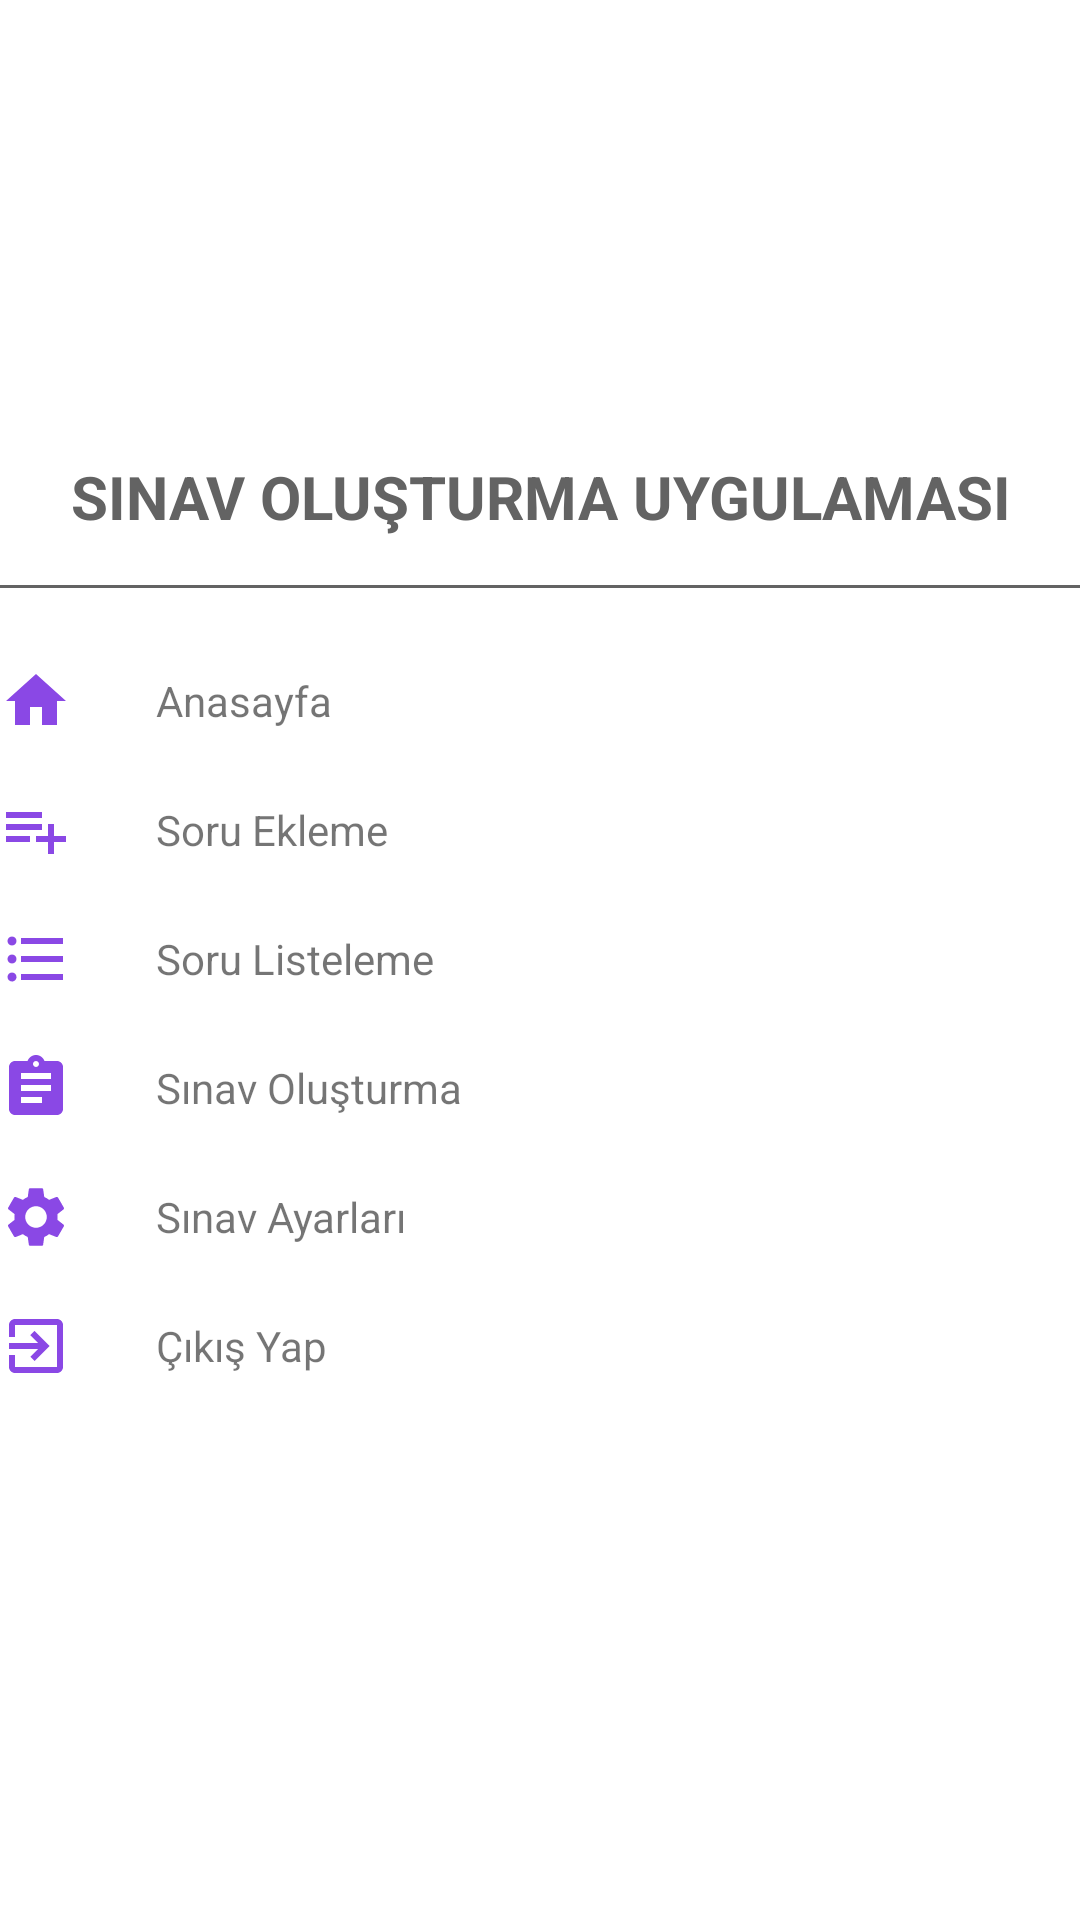

Icons on this 1080px x 1920px Android screen, each with the point to tap as point (x, y):
exit: point (36, 1346)
format list bulleted: point (35, 959)
home: point (36, 699)
setting: point (36, 1217)
sinav olustur: point (36, 1085)
